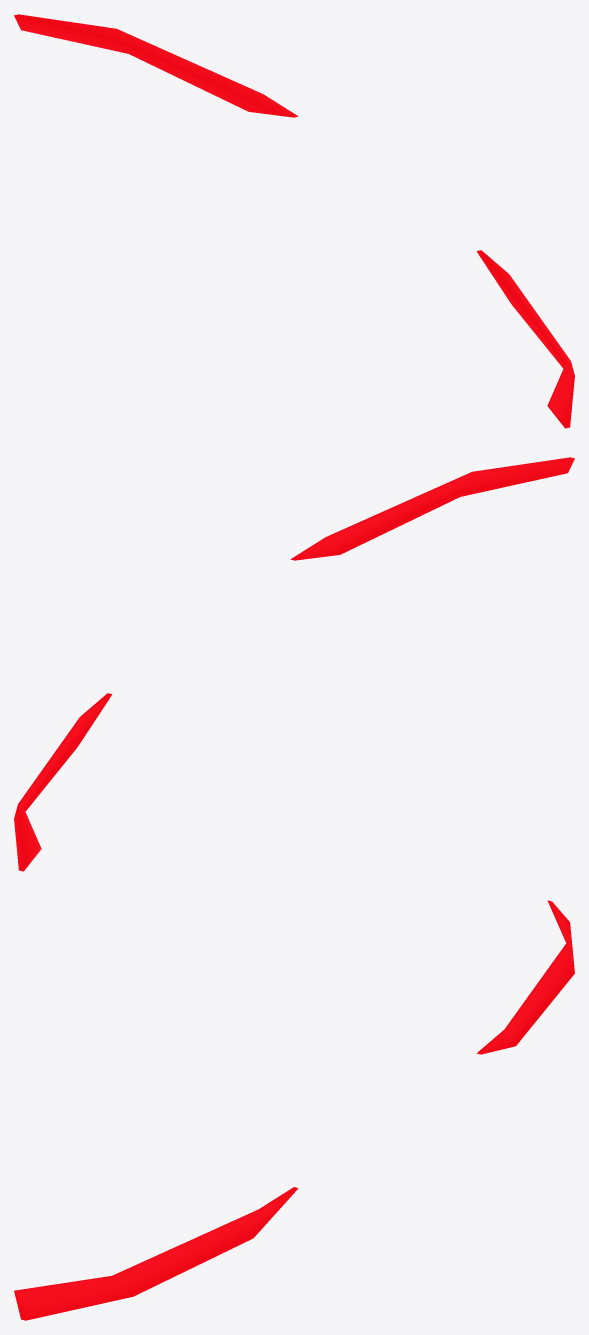
The model's file is brakeLights.glb.
3 renders of one model, top to bottom at view 1: azimuth 30°, elevation 25°; view 2: azimuth 150°, elevation 25°; view 3: azimuth 330°, elevation 25°, orthographic.
Parts seen in each view (by area): view 1: Car 03_Body.001; view 2: Car 03_Body.001; view 3: Car 03_Body.001.
Part boxes in pixels (x1,y1,x2,y2): Car 03_Body.001: (14, 14, 574, 428); Car 03_Body.001: (14, 457, 574, 871); Car 03_Body.001: (14, 900, 574, 1320).
Bounding box in the file's own units: 0.2688 × 0.053 × 2.32.
